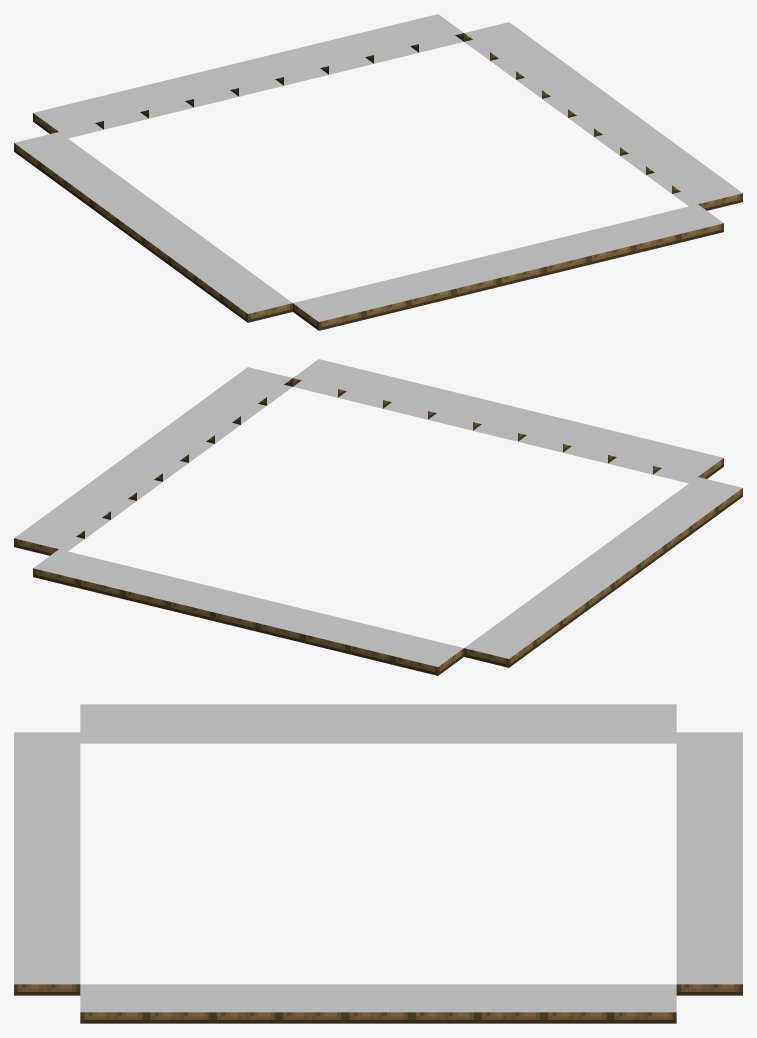
The model's file is trapdoor_combined_8a_lod0.fbx.
3 renders of one model, top to bottom at view 1: azimuth 30°, elevation 25°; view 2: azimuth 150°, elevation 25°; view 3: azimuth 270°, elevation 25°, orthographic. The views are drawn at different scales.
Parts seen in each view (by area): view 1: trapdoor_combined_8a_lod0; view 2: trapdoor_combined_8a_lod0; view 3: trapdoor_combined_8a_lod0.
Part boxes in pixels (bbox=[...]): trapdoor_combined_8a_lod0: bbox=[14, 14, 742, 330]; trapdoor_combined_8a_lod0: bbox=[14, 359, 742, 675]; trapdoor_combined_8a_lod0: bbox=[14, 704, 742, 1023].
Bounding box in the file's own units: 1118 × 19.05 × 1118.
